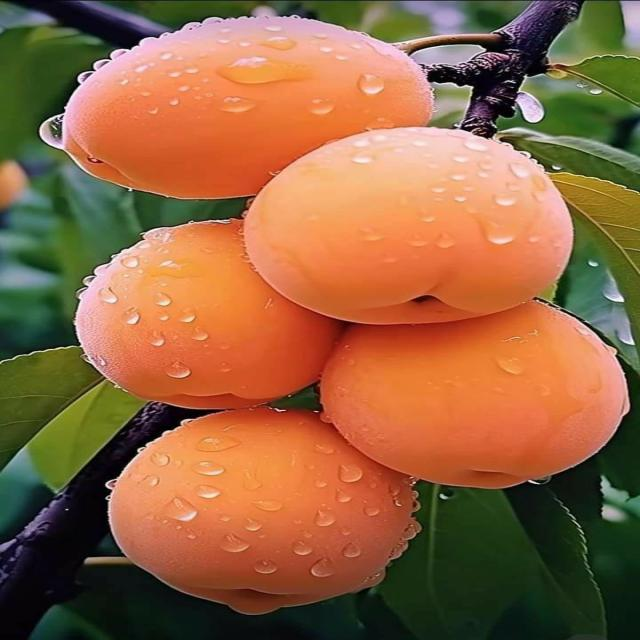kayisi: (63, 15, 435, 201), (239, 126, 575, 329), (106, 408, 422, 617), (325, 298, 628, 491), (75, 219, 350, 414)
